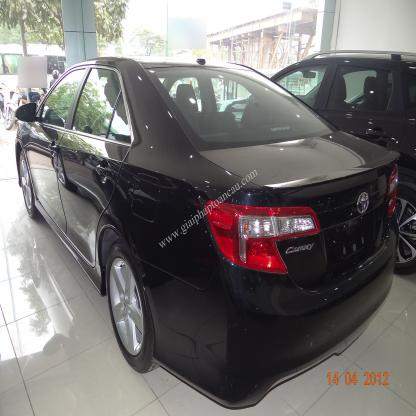car: (12, 54, 404, 413)
